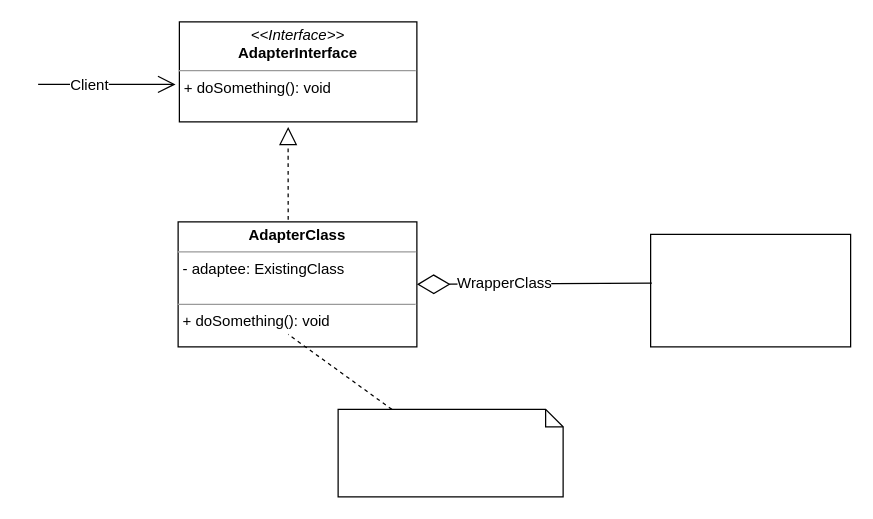
Image size: 873x519. Some labels were removed from this diagram. Each missing label, with the box of its shape:
adaptee.someMethod(): (337, 408, 563, 497)
ExistingClass + someMethod(): void +someOtherMethod(): void: (649, 233, 851, 347)
